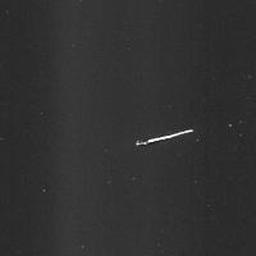Inclusion: (133, 128, 195, 147)
